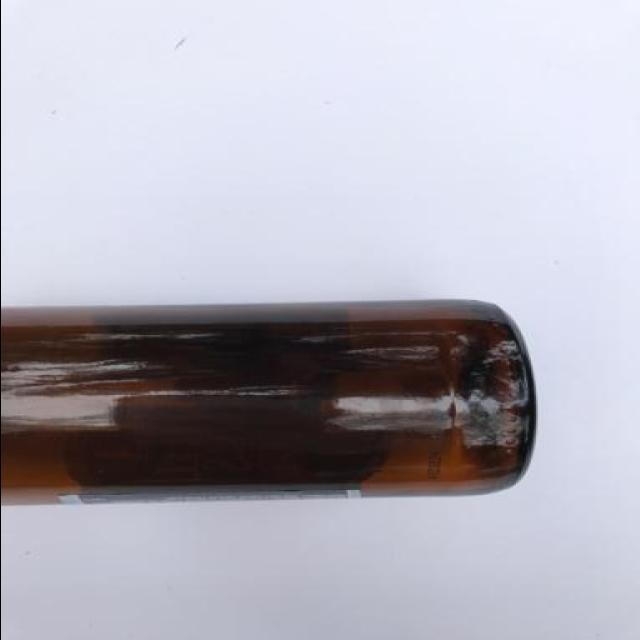litter: (2, 300, 538, 508)
